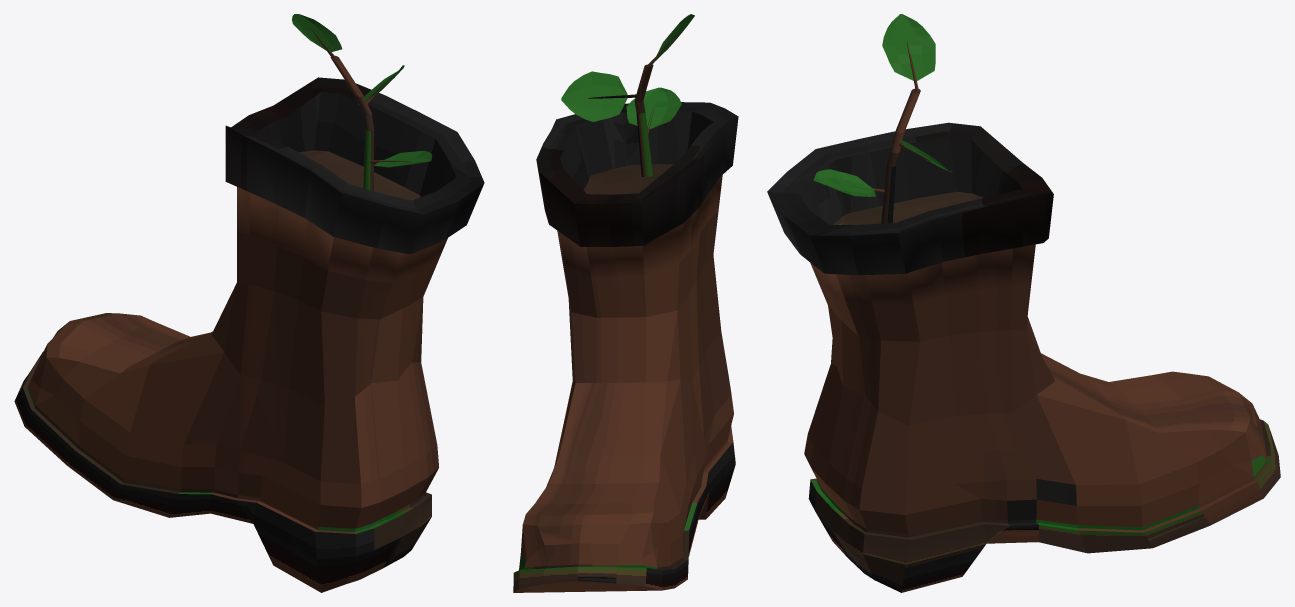
The model's file is sapling.fbx.
3 views of the same model, side by side, from view 1: azimuth 30°, elevation 25°; view 2: azimuth 150°, elevation 25°; view 3: azimuth 270°, elevation 25° (orthographic). The views are drawn at different scales.
Visible parts, largest first — view 1: Cube.087; view 2: Cube.087; view 3: Cube.087.
Part boxes in pixels (x1,y1,x2,y2): Cube.087: (14, 14, 484, 592); Cube.087: (513, 14, 738, 592); Cube.087: (767, 14, 1280, 592).
Bounding box in the file's own units: 0.1126 × 0.22 × 0.1917.
